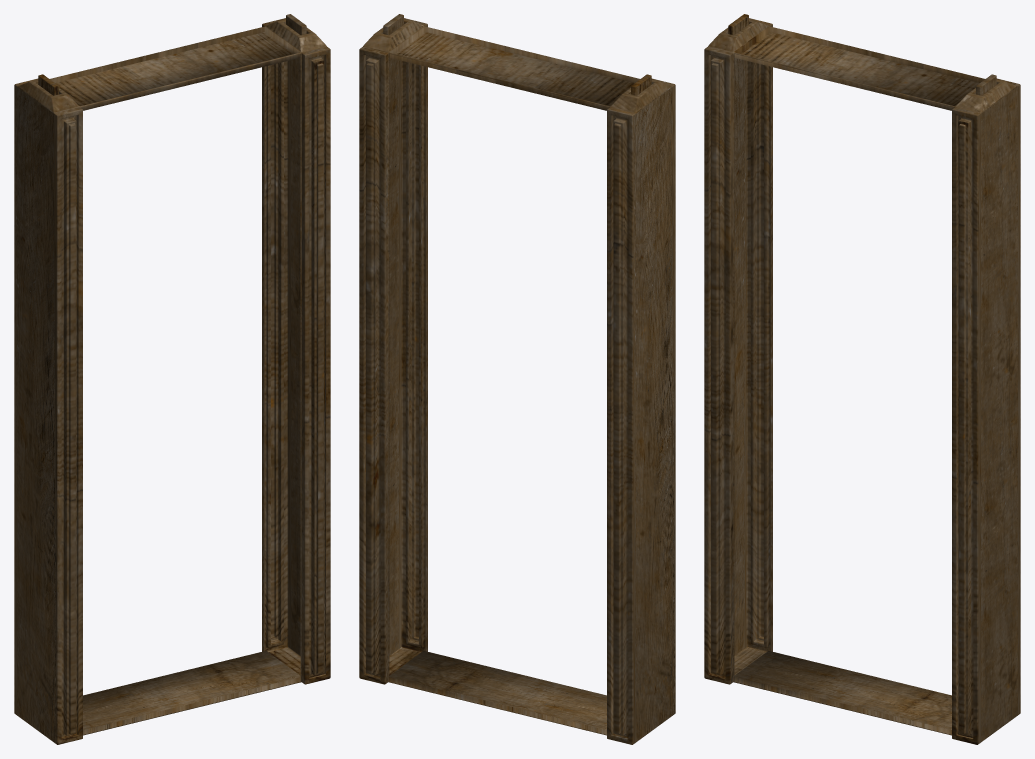
The model's file is 1_C_Door_.fbx.
3 renders of one model, left to right at view 1: azimuth 30°, elevation 25°; view 2: azimuth 150°, elevation 25°; view 3: azimuth 330°, elevation 25°, orthographic.
Parts seen in each view (by area): view 1: C_Door.001; view 2: C_Door.001; view 3: C_Door.001.
Boxes of the visible parts, x1,y1,x2,y2 form: C_Door.001: (14,14,330,744); C_Door.001: (359,14,675,744); C_Door.001: (704,14,1020,744).
Size of the model in its own units: 100 by 226 by 31.29.
